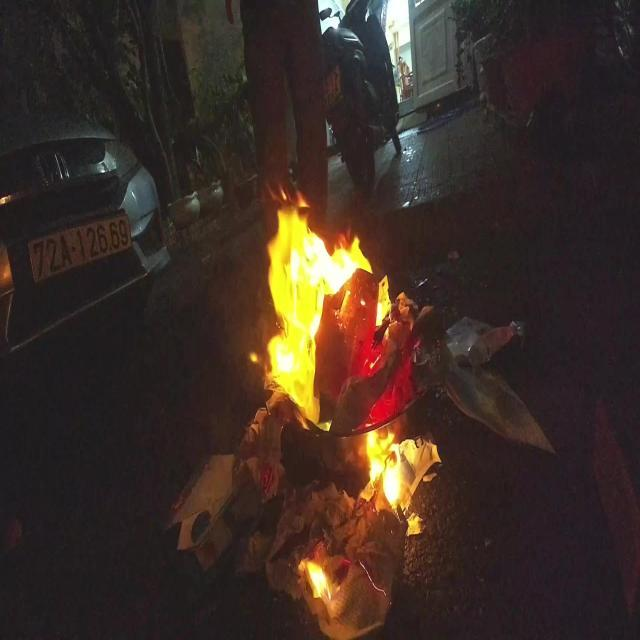Fire: (250, 182, 402, 512), (298, 558, 330, 606)
